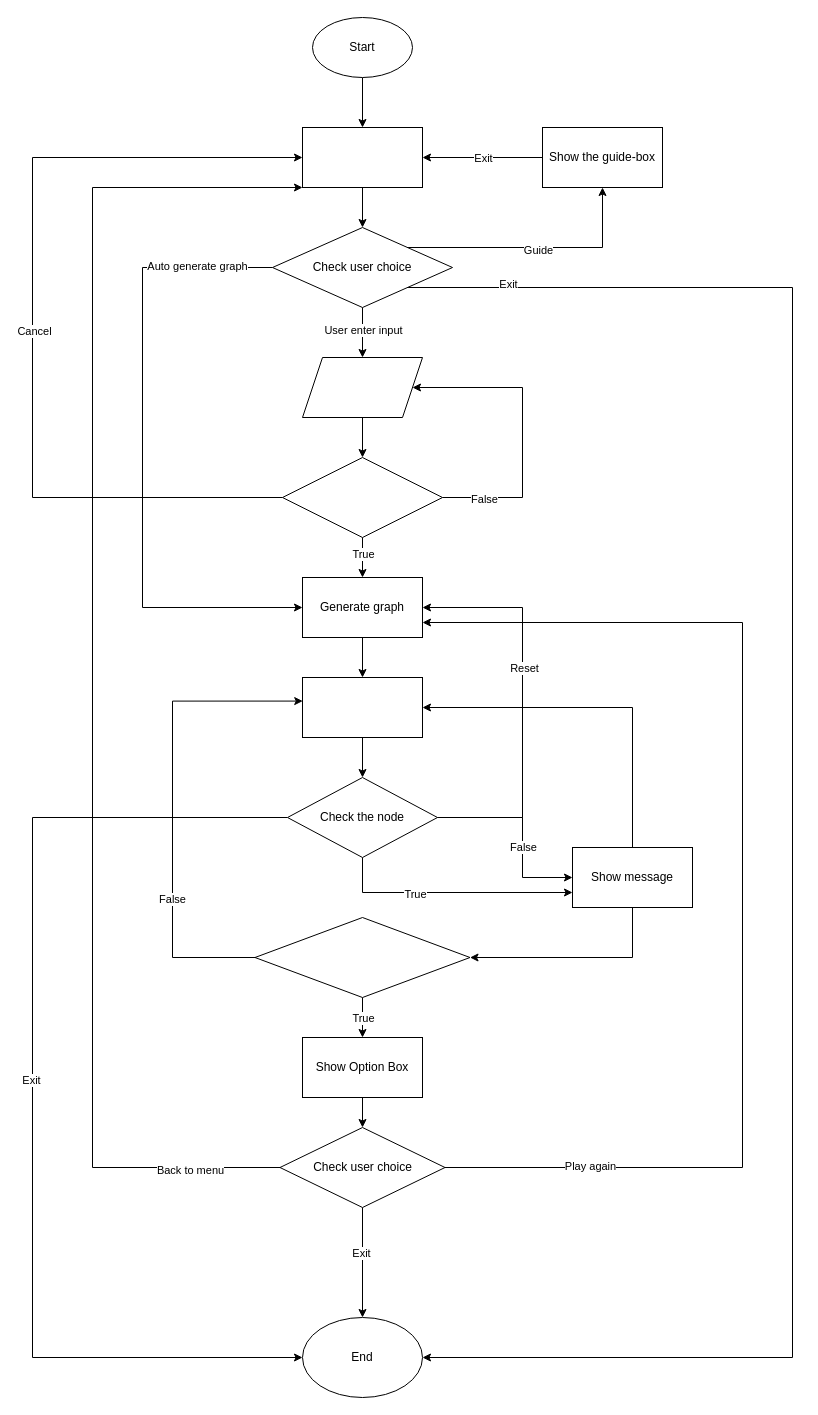
Image size: 818x1415. Some labels were removed from this diagram. The box of each missing label's shape, as (x1, y1, x2, y2) in pixels:
Check if run out of articulation node: (254, 916, 470, 998)
Check input: (282, 456, 442, 538)
Choose node: (302, 676, 422, 738)
Enter input: (302, 356, 422, 418)
Show Menu: (302, 126, 422, 188)
